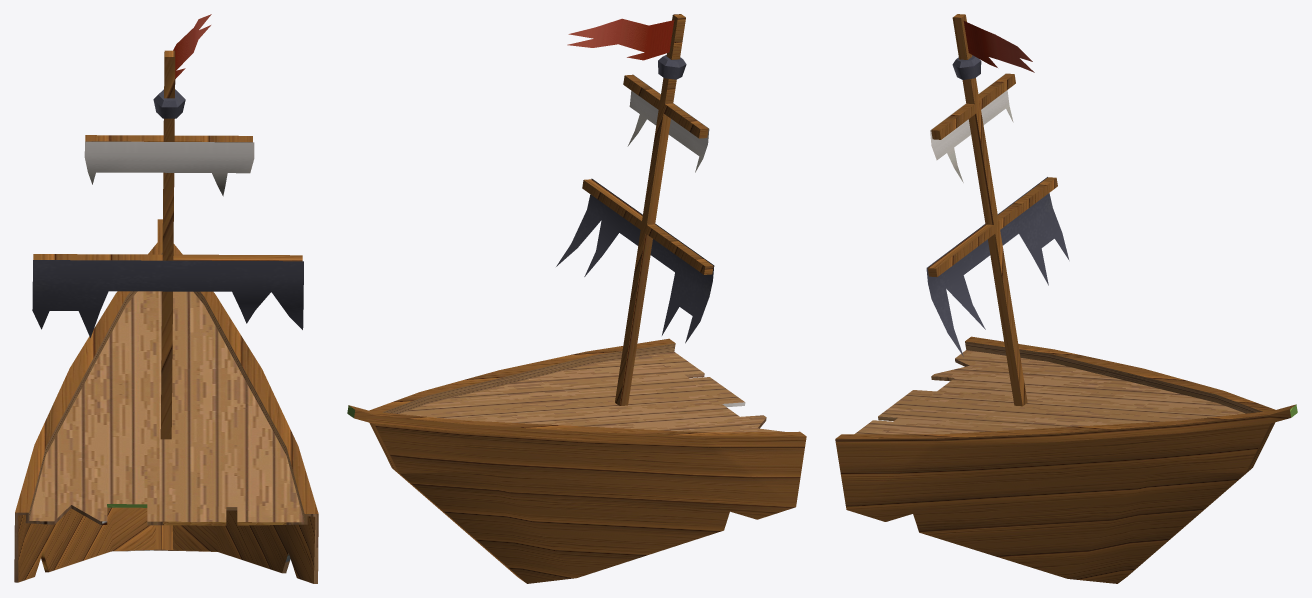
3 renders of one model, left to right at view 1: azimuth 30°, elevation 25°; view 2: azimuth 150°, elevation 25°; view 3: azimuth 270°, elevation 25°, orthographic. The views are drawn at different scales.
Parts seen in each view (by area): view 1: defaultMaterial.044; view 2: defaultMaterial.044; view 3: defaultMaterial.044.
Part boxes in pixels (x1,y1,x2,y2): defaultMaterial.044: (14,14,318,583); defaultMaterial.044: (347,14,806,583); defaultMaterial.044: (835,14,1297,583).
Bounding box in the file's own units: 587 × 981 × 779.
1 material, 1 textured.
